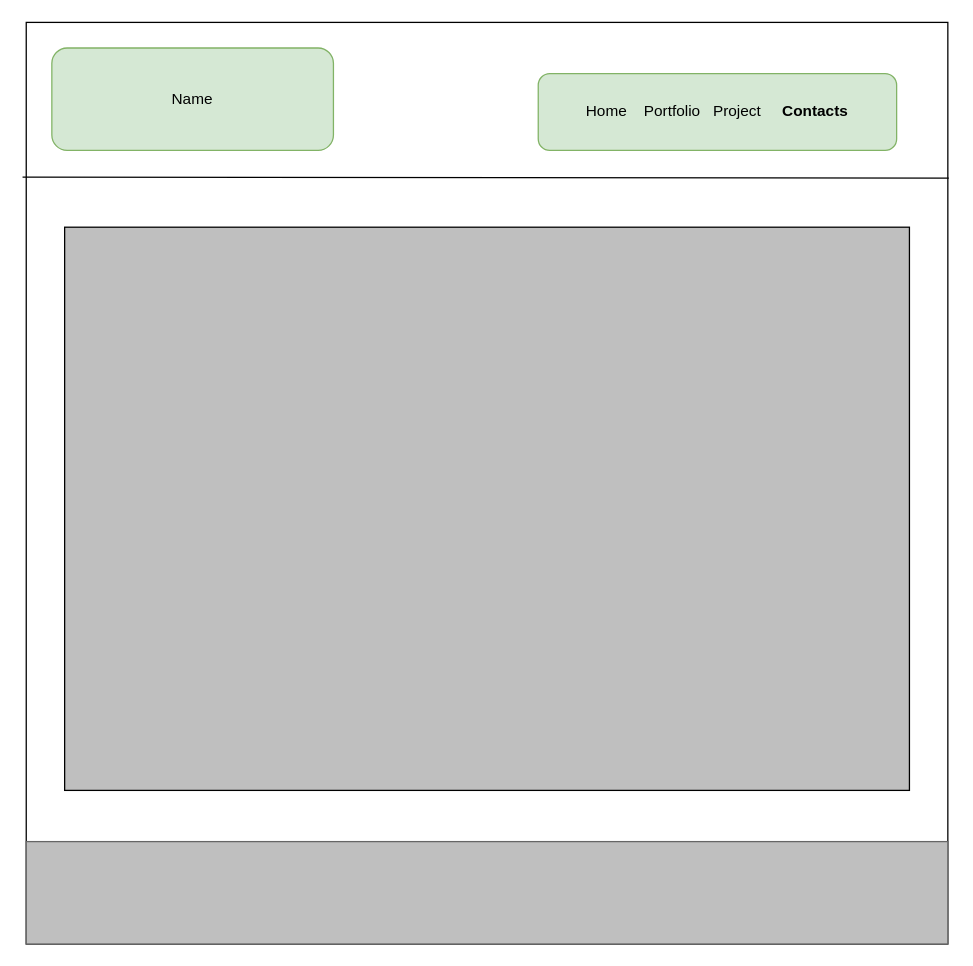
Image size: 973x966. Some labels were removed from this diagram. Here are the shapes that lost their labels. From the top down, the box of each, then its label:
(63, 226, 909, 790): Contact Page
(25, 840, 948, 944): All Rights Reserves 2020
